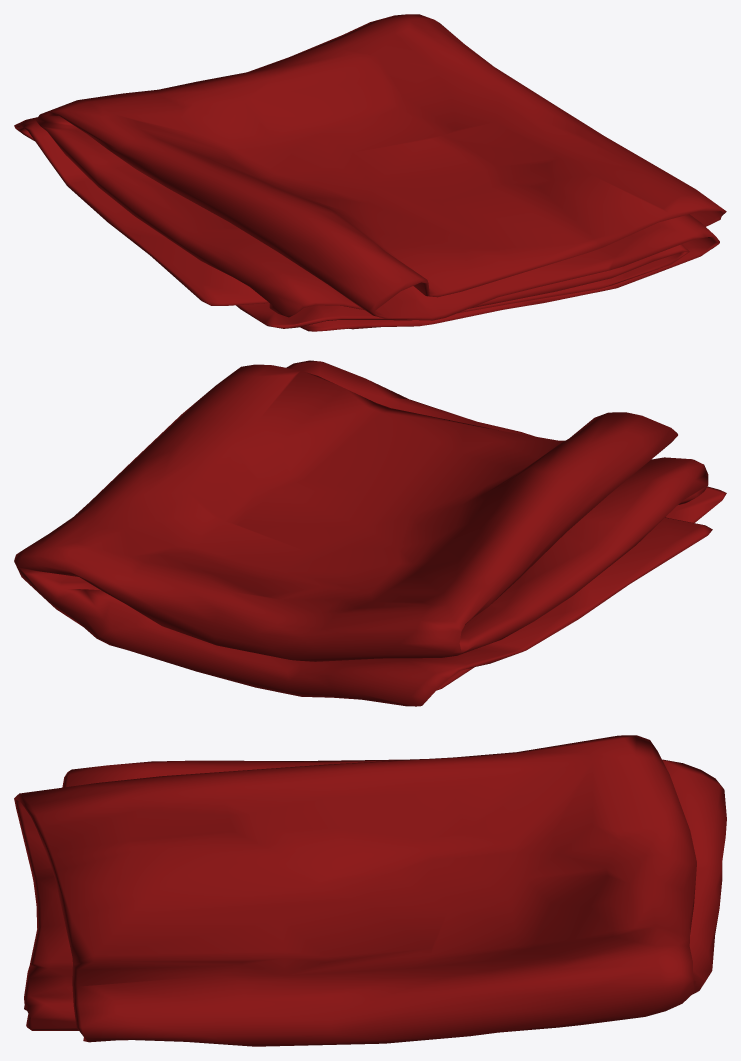
The model's file is Napkin.FBX.
3 renders of one model, top to bottom at view 1: azimuth 30°, elevation 25°; view 2: azimuth 150°, elevation 25°; view 3: azimuth 270°, elevation 25°, orthographic. The views are drawn at different scales.
Parts seen in each view (by area): view 1: napkin; view 2: napkin; view 3: napkin.
Boxes of the visible parts, x1,y1,x2,y2 form: napkin: [14, 14, 726, 331]; napkin: [14, 360, 726, 706]; napkin: [14, 735, 726, 1046].
Bounding box in the file's own units: 17.12 × 2.63 × 18.45.
